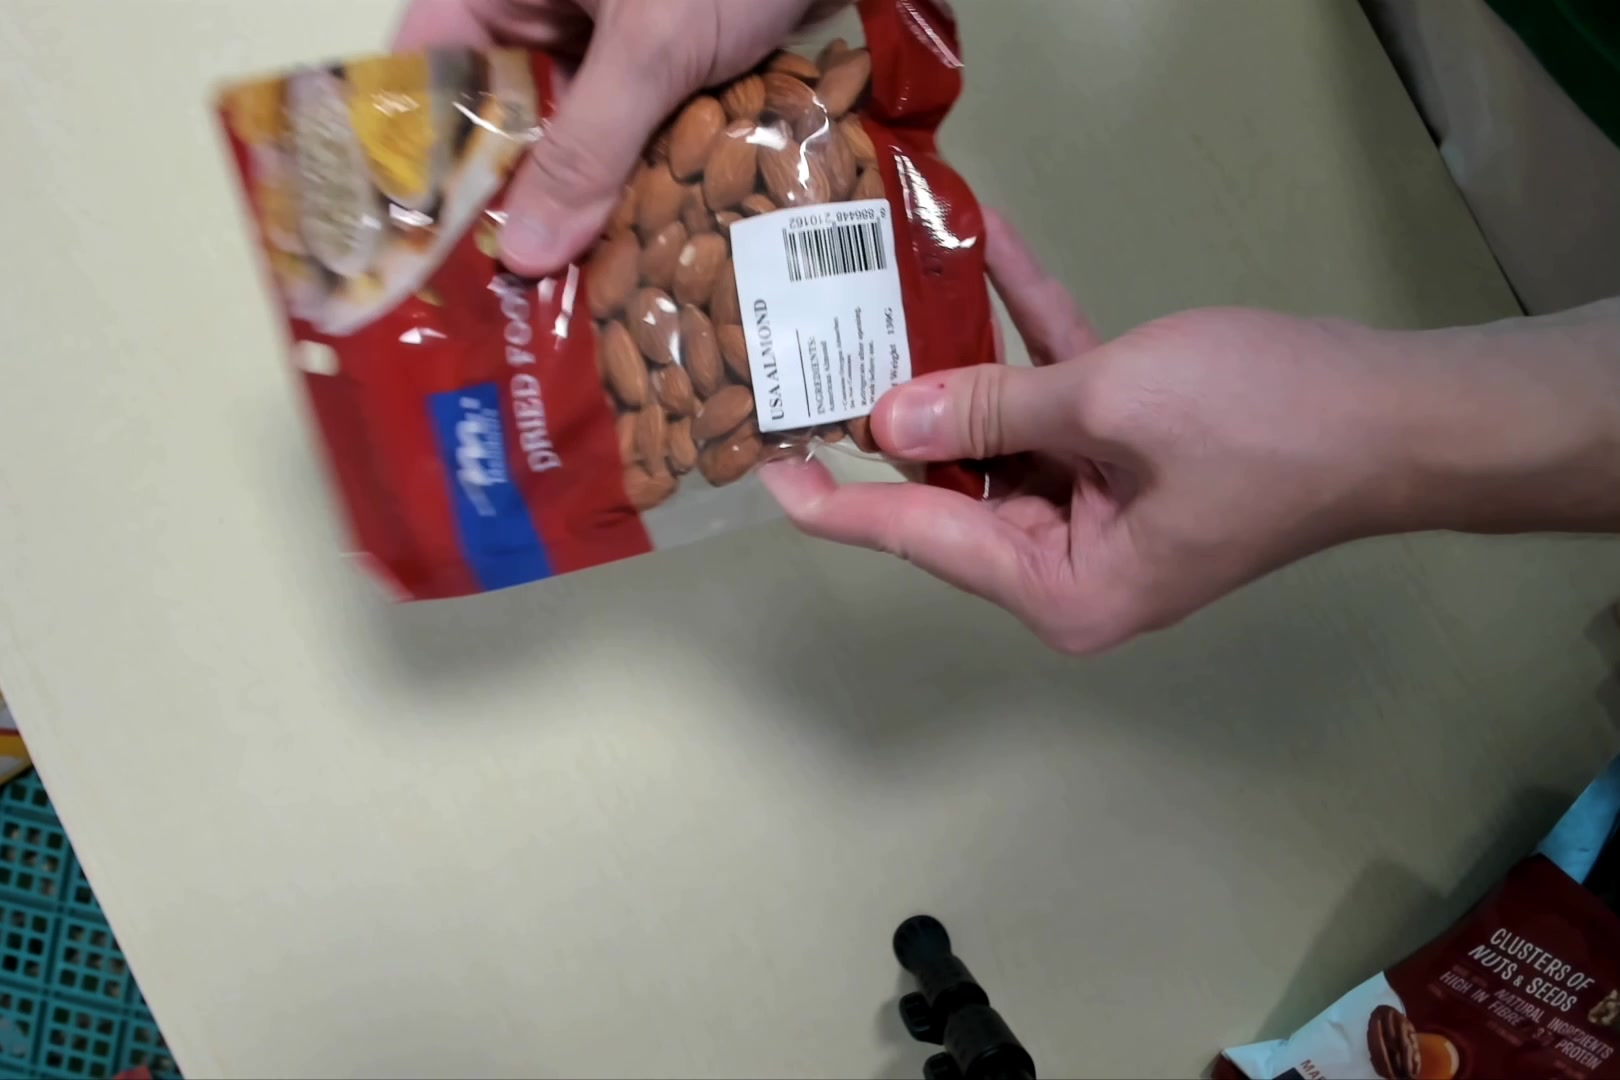Nuts_100-199g_NonHalal_NonHealthy: (210, 19, 1037, 614)
